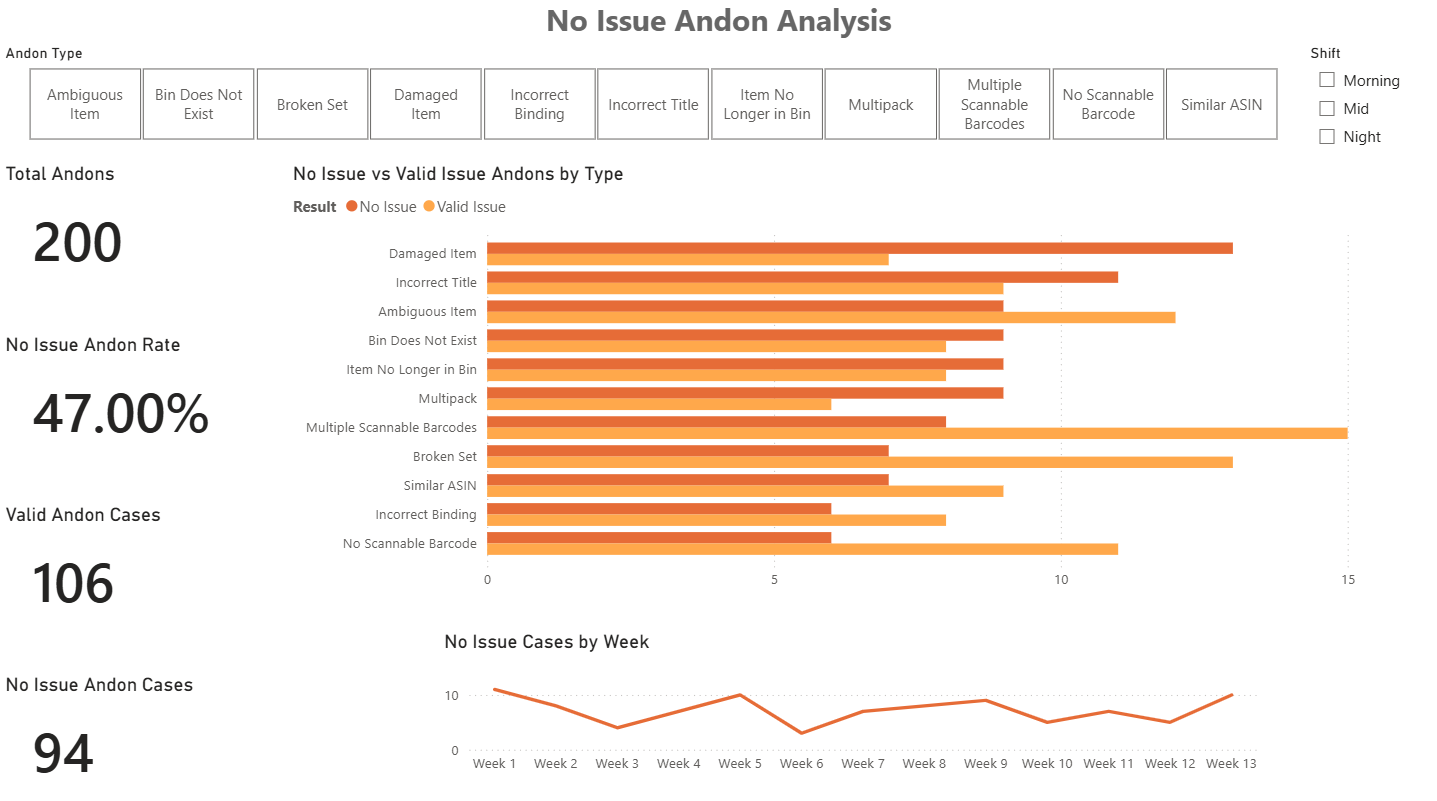

The dashboard page shown, as its layout file describes it:
{"tool":"powerbi","page":{"name":"Page 1","canvas":[1280,720],"ordinal":0},"visuals":[{"type":"cardVisual","title":"Total Andons","fields":{"Data":["CountNonNull(Raw_Data.Result)"]},"box":[0,150.8,170.1,114.6],"z":0},{"type":"cardVisual","title":"No Issue Andon Cases","fields":{"Data":["CountNonNull(Raw_Data.Result)"]},"box":[0,605.4,178.6,114.6],"z":1000},{"type":"cardVisual","title":"Valid Andon Cases","fields":{"Data":["CountNonNull(Raw_Data.Result)"]},"box":[0,454,178.6,114.6],"z":2000},{"type":"cardVisual","title":"No Issue Andon Rate","fields":{"Data":["Raw_Data.No Issue Rate"]},"box":[0,302.4,246.1,114.6],"z":3000},{"type":"slicer","title":"Shift","fields":{"Values":["Raw_Data.Shift"]},"box":[1161.8,45.8,92.9,105],"z":4000},{"type":"clusteredBarChart","title":"No Issue vs Valid Issue Andons by Type","fields":{"Y":["CountNonNull(Raw_Data.Result)"],"Category":["Raw_Data.Andon_Type"],"Series":["Raw_Data.Result"]},"box":[255.8,150.8,1007.4,389.7],"z":5000},{"type":"lineChart","title":"No Issue Cases by Week","fields":{"Category":["Raw_Data.Week"],"Y":["CountNonNull(Raw_Data.Result)"]},"box":[390.9,568.2,737.1,136.3],"z":6000},{"type":"slicer","title":"Andon Type","fields":{"Values":["Raw_Data.Andon_Type"]},"box":[0,45.8,1161.8,91.7],"z":7000},{"type":"textbox","box":[0,0,1280,45.8],"z":8000}]}

Visuals, with their boxes in screenshot pixels (x1, y1, x2, y2), scaled from the page's 1280x720 canvas onto the 1437x801 screenshot:
"Total Andons" cardVisual: l=0, t=168, r=191, b=295
"No Issue Andon Cases" cardVisual: l=0, t=674, r=201, b=800
"Valid Andon Cases" cardVisual: l=0, t=505, r=201, b=633
"No Issue Andon Rate" cardVisual: l=0, t=336, r=276, b=464
"Shift" slicer: l=1304, t=51, r=1409, b=168
"No Issue vs Valid Issue Andons by Type" clusteredBarChart: l=287, t=168, r=1418, b=601
"No Issue Cases by Week" lineChart: l=439, t=632, r=1266, b=784
"Andon Type" slicer: l=0, t=51, r=1304, b=153
textbox: l=0, t=0, r=1436, b=51
